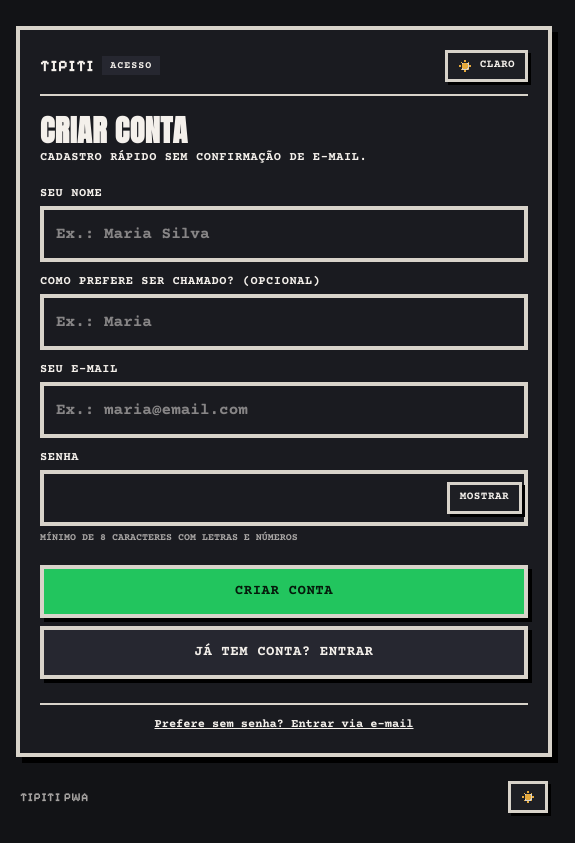
Test: LoginPage › validates strong password with length, letter and number during signup
Step 1. Type "Ana Silva" into the field labelled "Seu nome" → (284, 234), box left=40, top=206, right=528, bottom=262
Step 2. Type "ana@example.com" into the field labelled "Seu e-mail" → (284, 410), box left=40, top=382, right=528, bottom=438
Step 3. Type "short" into the password field labelled "Senha" → (284, 498), box left=40, top=470, right=528, bottom=526
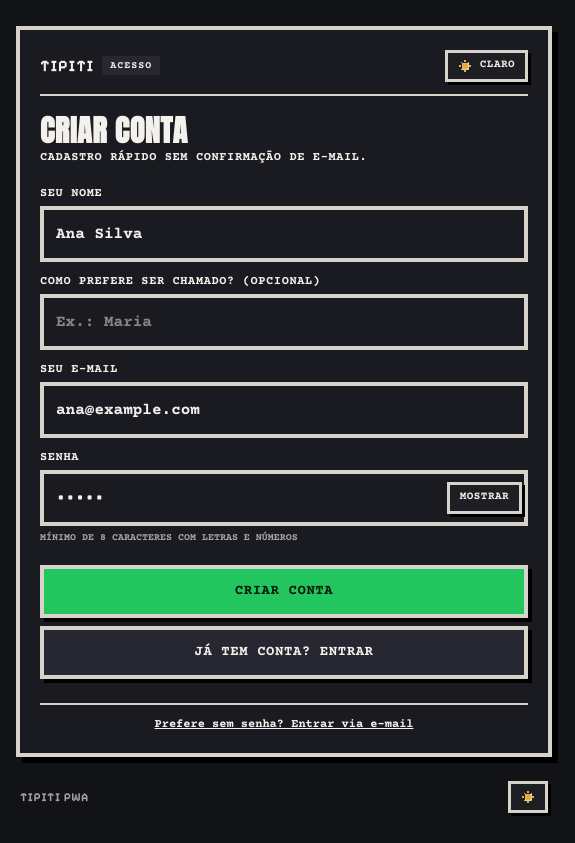
Step 4. Click the button "Criar conta" → (284, 591), box left=40, top=564, right=528, bottom=618
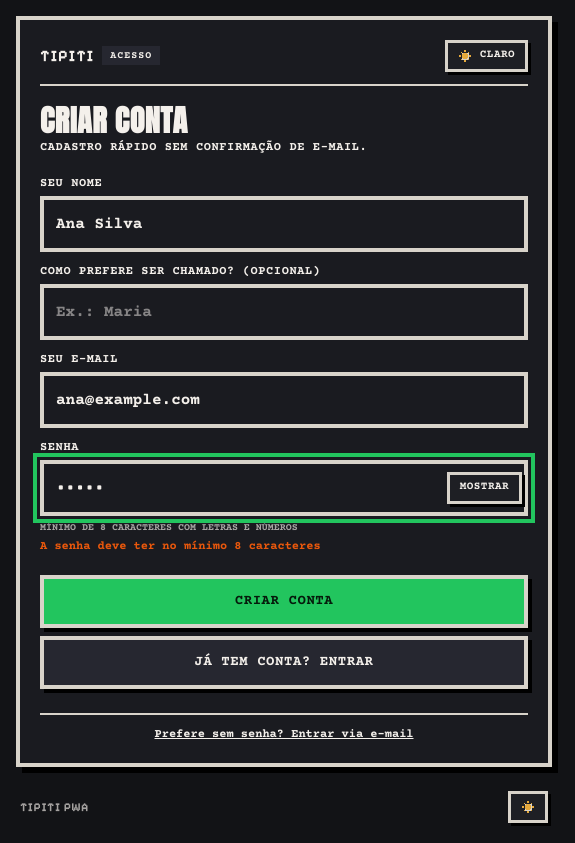
Now the text "A senha deve ter no mínimo 8 caracteres" is shown, box left=40, top=540, right=321, bottom=552
Step 5. Type "onlyletters" into the password field labelled "Senha" → (284, 488), box left=40, top=460, right=528, bottom=516
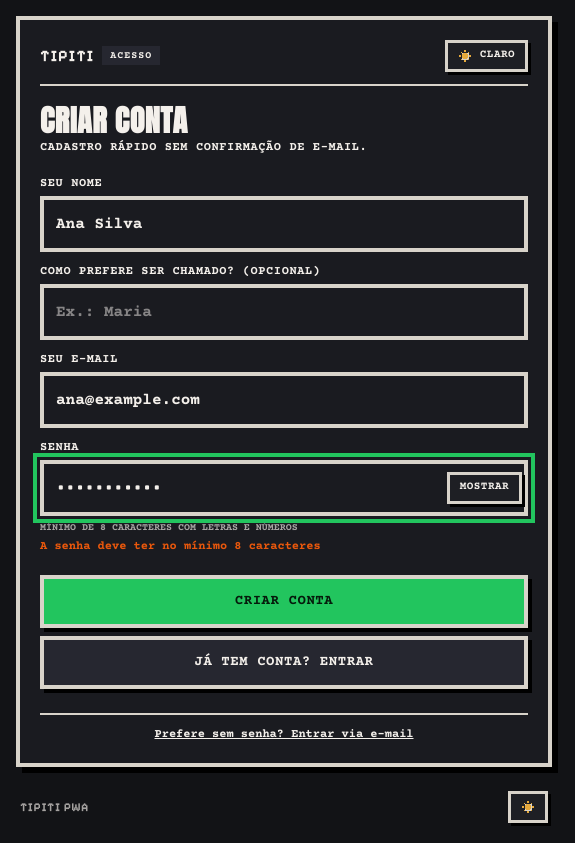
Step 6. Click the button "Criar conta" → (284, 601), box left=40, top=574, right=528, bottom=628
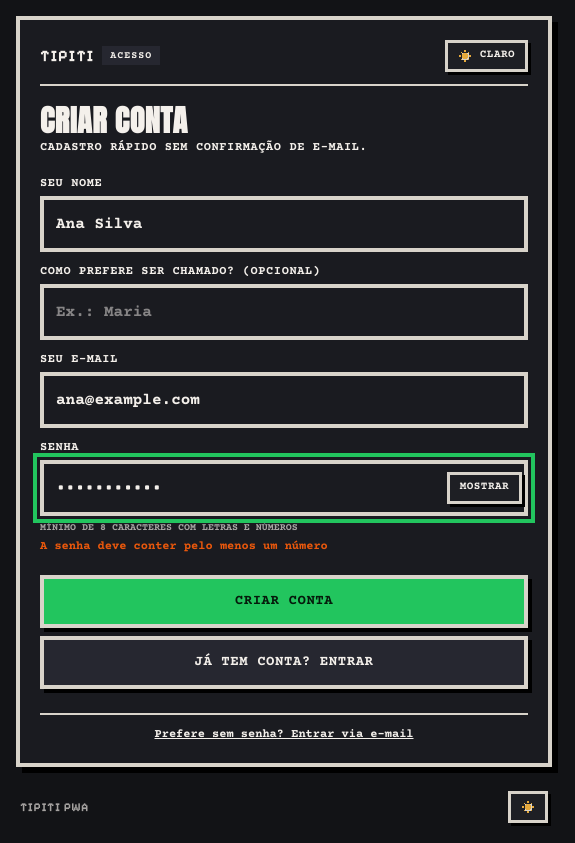
Now the text "A senha deve conter pelo menos um número" is shown, box left=40, top=540, right=328, bottom=552
Step 7. Type "12345678" into the password field labelled "Senha" → (284, 488), box left=40, top=460, right=528, bottom=516
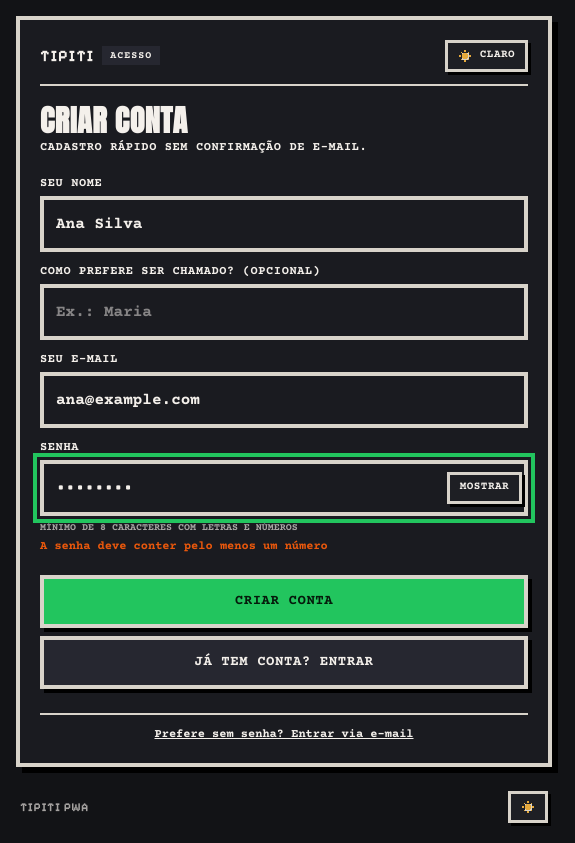
Step 8. Click the button "Criar conta" → (284, 601), box left=40, top=574, right=528, bottom=628
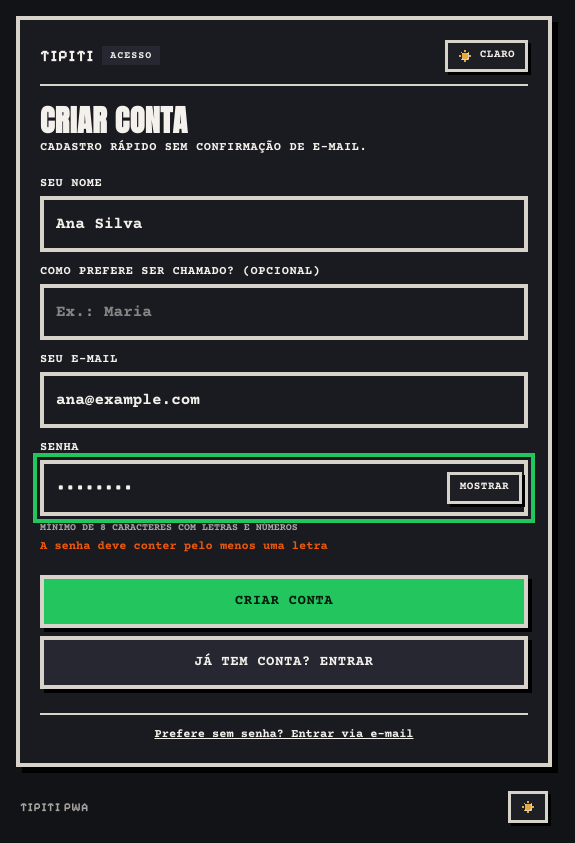
Now the text "A senha deve conter pelo menos uma letra" is shown, box left=40, top=540, right=328, bottom=552
